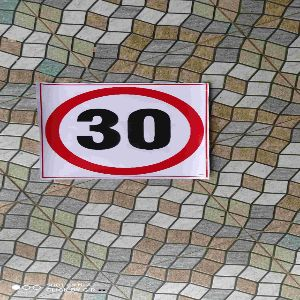speedlimit30: (39, 81, 208, 181)
